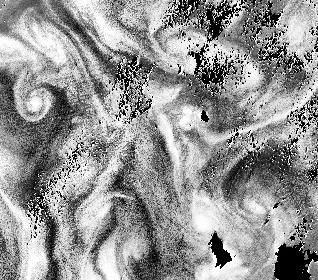CE: (17, 83, 55, 122)
